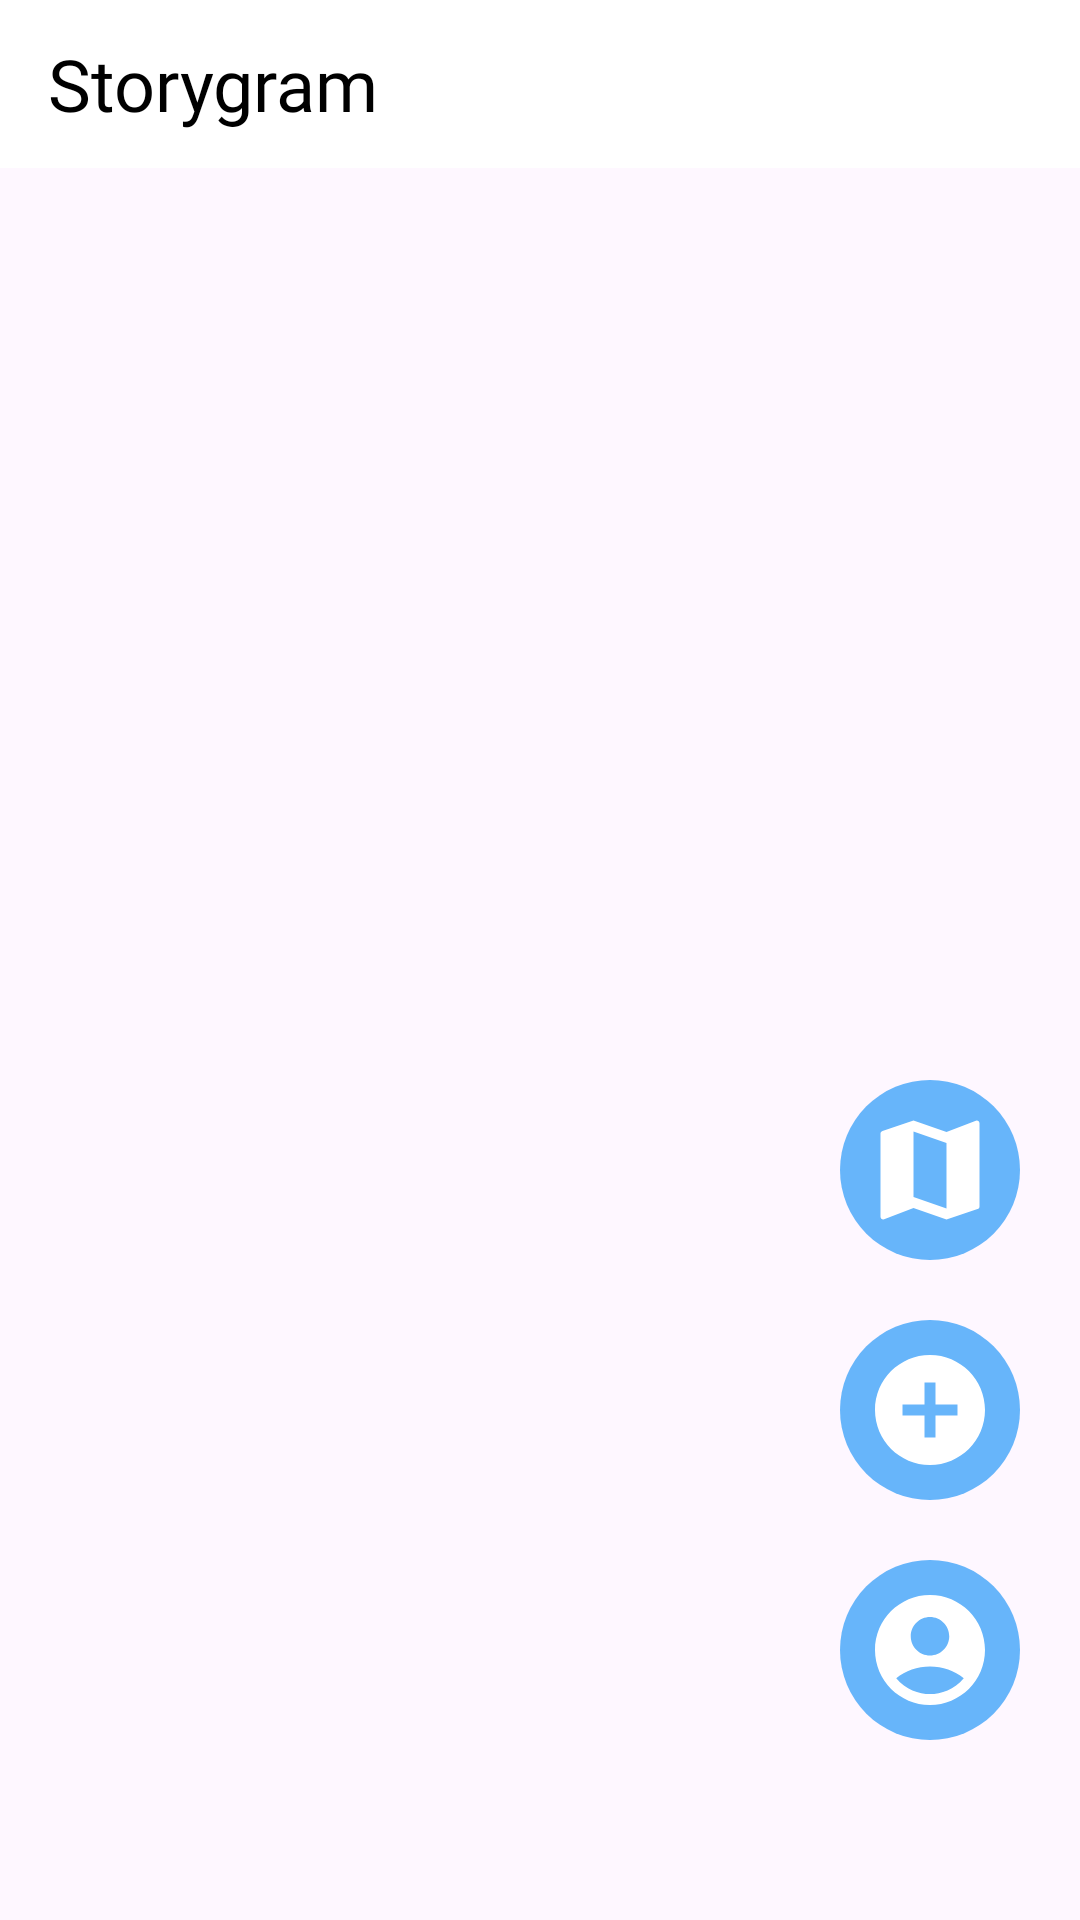

Icon bounding boxes for this 1080 × 1920 phone screenshot, format (x1, y1, x2, y2):
add: (840, 1320, 1020, 1500)
map: (840, 1080, 1020, 1260)
user: (840, 1560, 1020, 1740)
